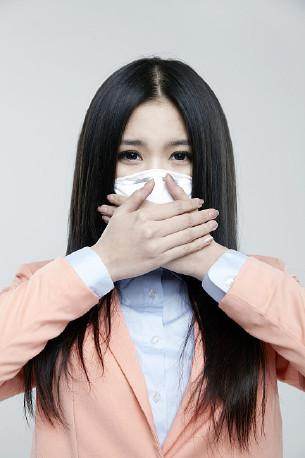OK: (111, 136, 214, 239)
